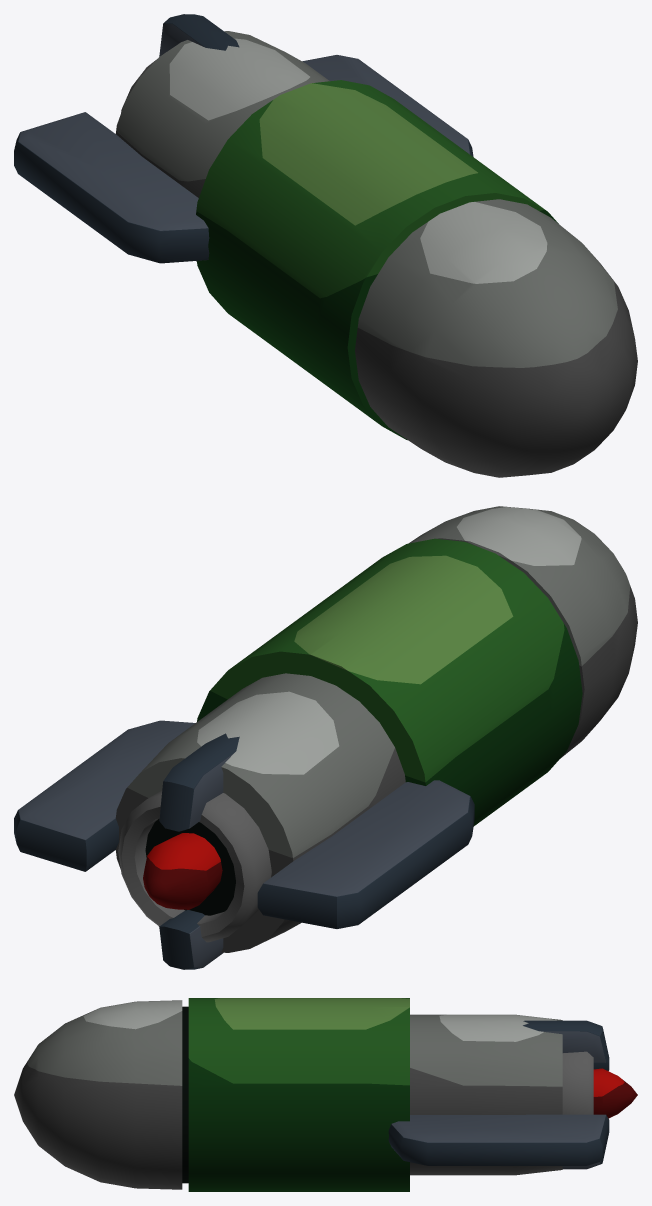
Rendered from slot_rocket_green.glb.
3 renders of one model, top to bottom at view 1: azimuth 30°, elevation 25°; view 2: azimuth 150°, elevation 25°; view 3: azimuth 270°, elevation 25°, orthographic. The views are drawn at different scales.
Visible parts, largest first — view 1: slot_rocket_green; view 2: slot_rocket_green; view 3: slot_rocket_green.
Part boxes in pixels (<box>): slot_rocket_green: <box>14,14,637,477</box>; slot_rocket_green: <box>14,506,637,969</box>; slot_rocket_green: <box>14,998,637,1191</box>.
Bounding box in the file's own units: 6.5 × 4.4 × 14.1.
